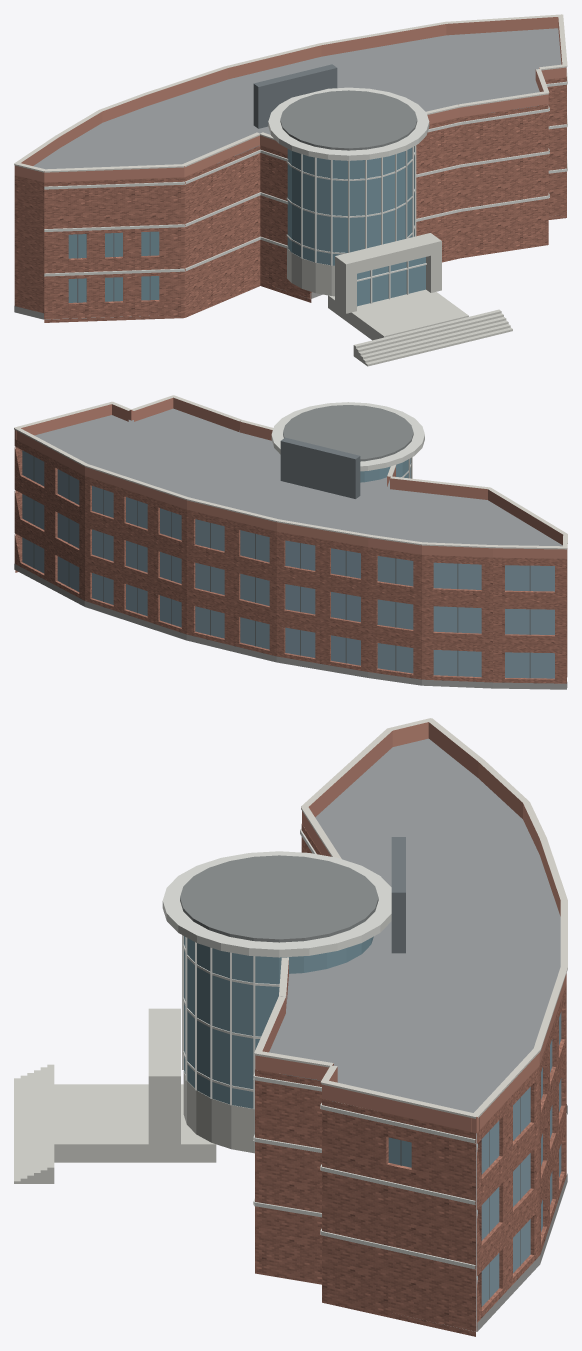
3 renders of one model, top to bottom at view 1: azimuth 30°, elevation 25°; view 2: azimuth 150°, elevation 25°; view 3: azimuth 270°, elevation 25°, orthographic. The views are drawn at different scales.
Visible parts, largest first — view 1: arts__front__facade-wall, arts__roof, arts__parapet, arts__glass.001, arts__roof-top, arts__band, arts__wall, arts__trim, arts__threshold, arts__entrance-frame, arts__roof.001, arts__front__facade-glass (+12 smaller); view 2: arts__wall, arts__glass, arts__roof, arts__parapet, arts__roof-top, arts__trim, arts__base, arts__roof-box, arts__roof.001, arts__frame, arts__glass.001; view 3: arts__roof, arts__front__facade-wall, arts__roof-top, arts__wall, arts__glass.001, arts__parapet, arts__threshold, arts__trim, arts__roof.001, arts__glass, arts__entrance-frame, arts__band (+10 smaller).
Boxes of the visible parts, <box> form: arts__front__facade-wall: <box>44,77,566,322</box>; arts__roof: <box>33,28,561,319</box>; arts__parapet: <box>14,17,566,182</box>; arts__glass.001: <box>287,146,414,265</box>; arts__roof-top: <box>280,90,417,150</box>; arts__band: <box>44,69,567,276</box>; arts__wall: <box>14,77,565,318</box>; arts__trim: <box>14,14,567,172</box>; arts__threshold: <box>328,289,468,340</box>; arts__entrance-frame: <box>335,233,441,313</box>; arts__roof.001: <box>268,87,429,160</box>; arts__front__facade-glass: <box>68,231,159,302</box>; arts__wall: <box>14,439,567,683</box>; arts__glass: <box>22,450,554,678</box>; arts__roof: <box>34,408,562,689</box>; arts__parapet: <box>14,397,566,558</box>; arts__roof-top: <box>283,405,413,461</box>; arts__trim: <box>14,395,567,549</box>; arts__base: <box>14,563,567,689</box>; arts__roof-box: <box>280,437,360,498</box>; arts__roof.001: <box>271,402,424,471</box>; arts__frame: <box>33,456,530,678</box>; arts__glass.001: <box>360,458,410,482</box>; arts__roof: <box>269,738,560,1331</box>; arts__front__facade-wall: <box>255,824,475,1336</box>; arts__roof-top: <box>180,855,378,942</box>; arts__wall: <box>256,984,566,1331</box>; arts__glass.001: <box>184,936,373,1108</box>; arts__parapet: <box>255,722,566,1133</box>; arts__threshold: <box>54,1084,216,1162</box>; arts__trim: <box>254,718,567,1118</box>; arts__roof.001: <box>162,851,391,957</box>; arts__glass: <box>481,1012,561,1306</box>; arts__entrance-frame: <box>148,1008,180,1147</box>; arts__band: <box>253,827,475,1269</box>.
Bounding box in the file's own units: 46.58 × 14.4 × 27.32.
Materials: 12 (1 with a texture image).
